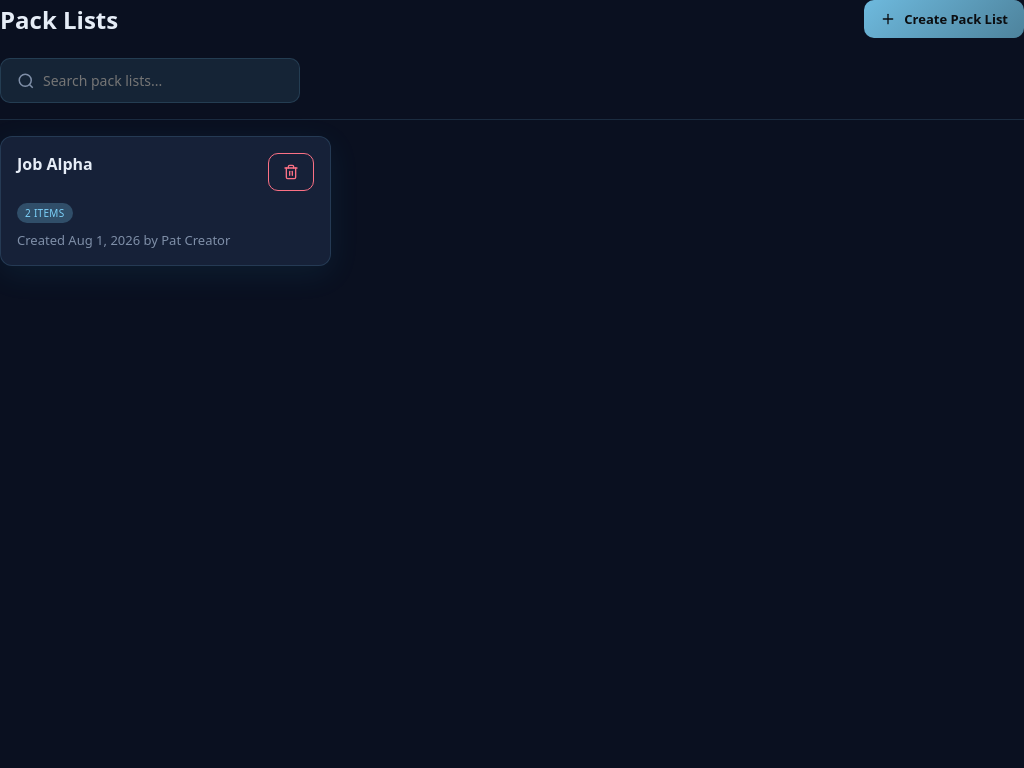
Test: package selection › empty packages can be selected and deselected
Click the button "Create Pack List": click(944, 19) [864,0,1023,38]
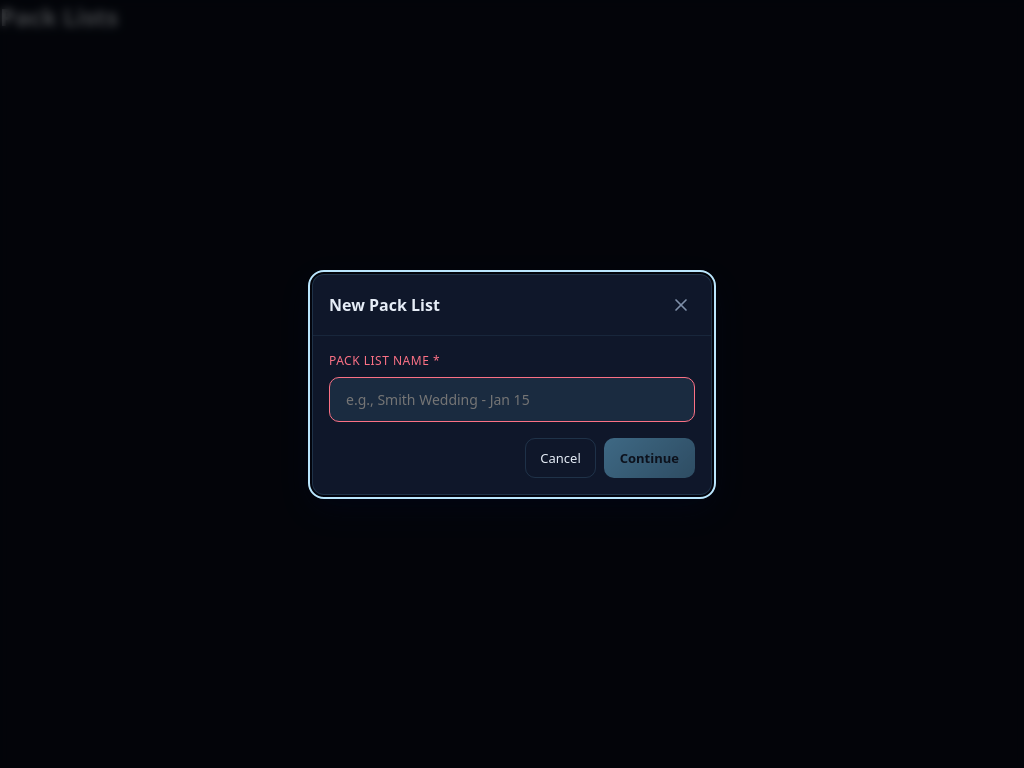
In the field with placeholder "e.g., Smith Wedding - Jan 15": (512, 399) [329,376,695,422], type "Empty Pkg Job"
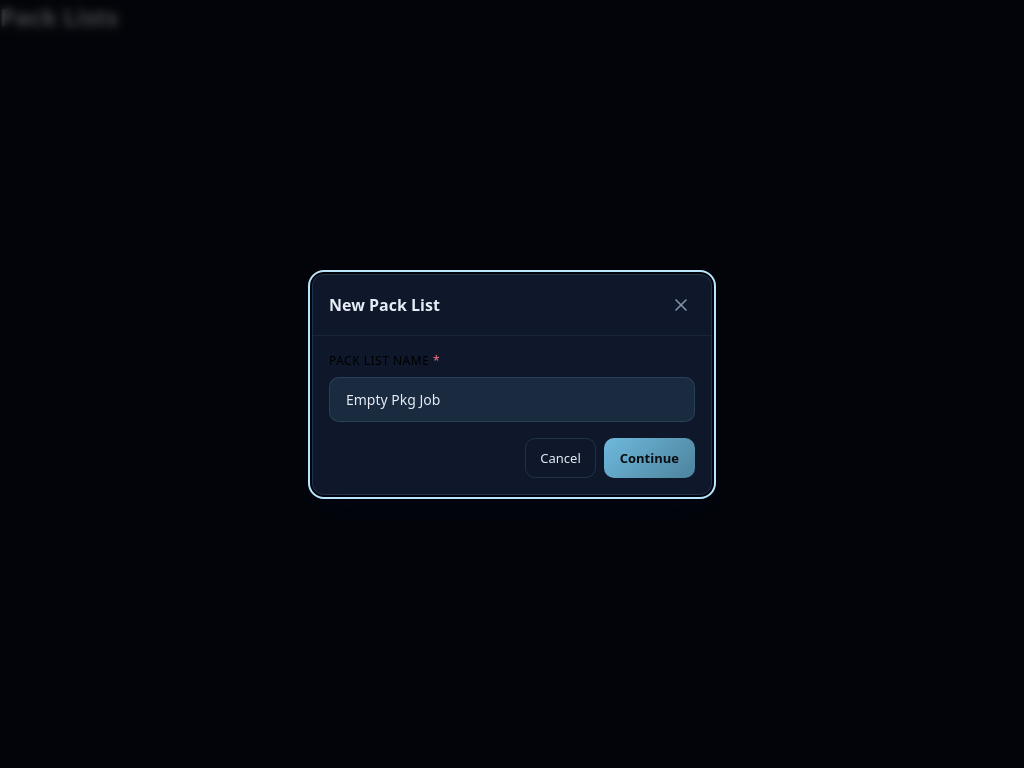
Click the button "Continue": click(649, 458) [604,438,695,478]
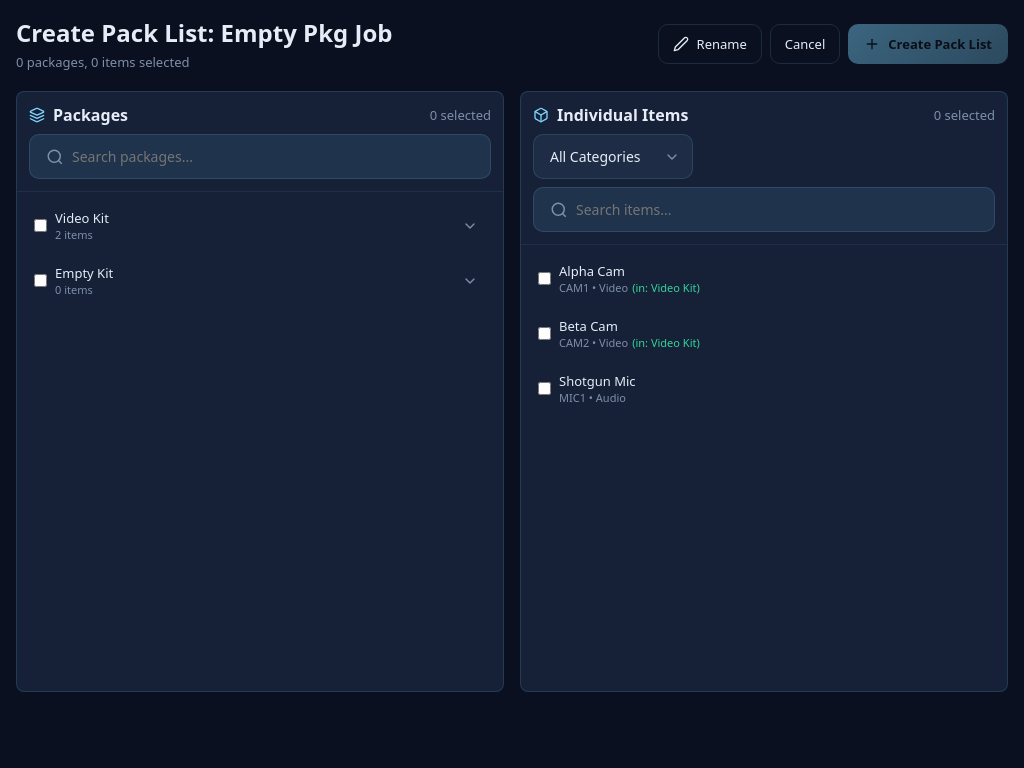
Click the text "Alpha Cam": click(592, 271) [559,262,625,280]
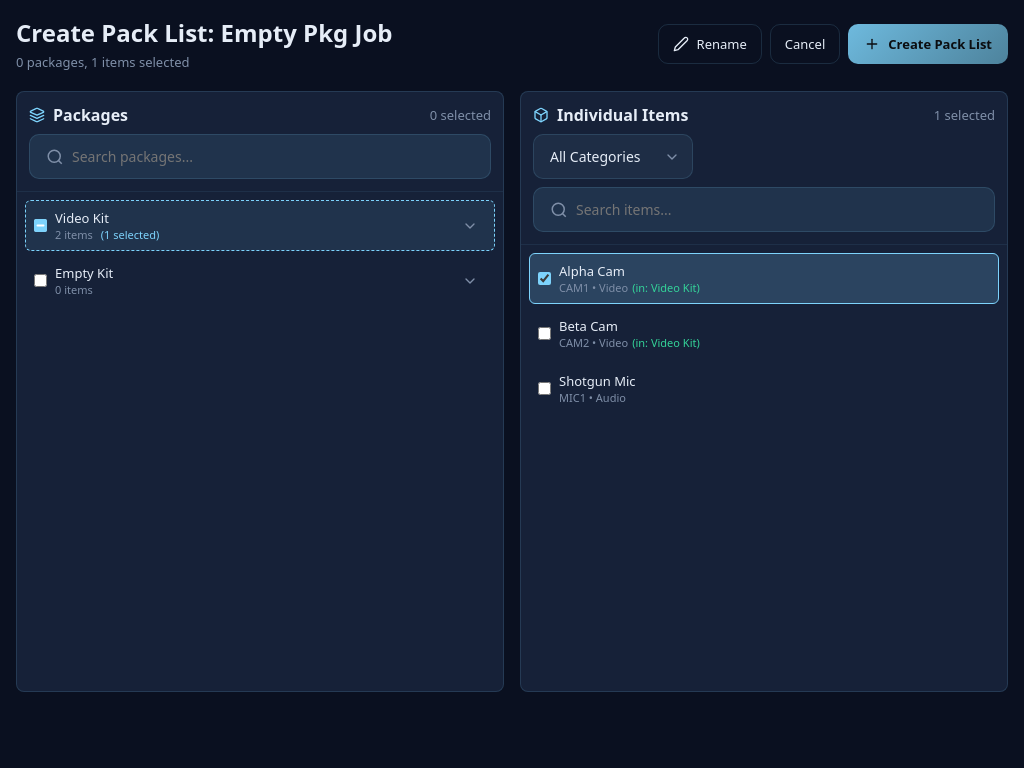
Check: the text "0 selected" is shown, box [430,106,491,124]
Click the text "Empty Kit": click(84, 273) [55,264,113,282]
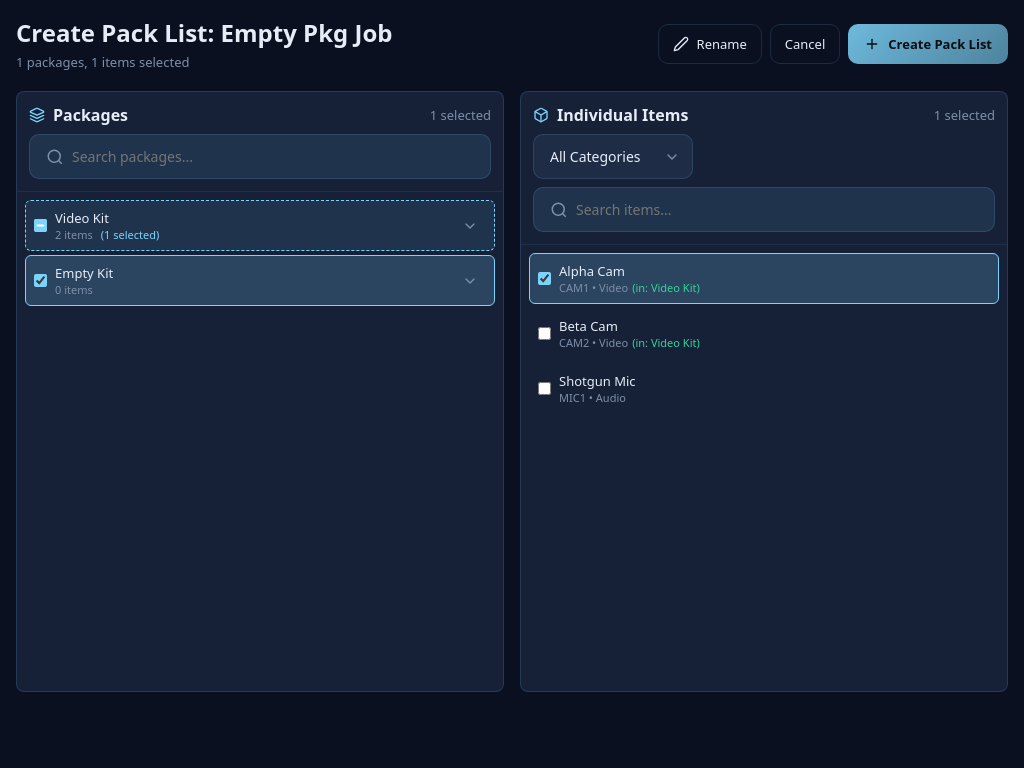
Check: the 1st text "1 selected" is shown, box [430,106,491,124]
Click the text "Empty Kit": click(84, 273) [55,264,113,282]
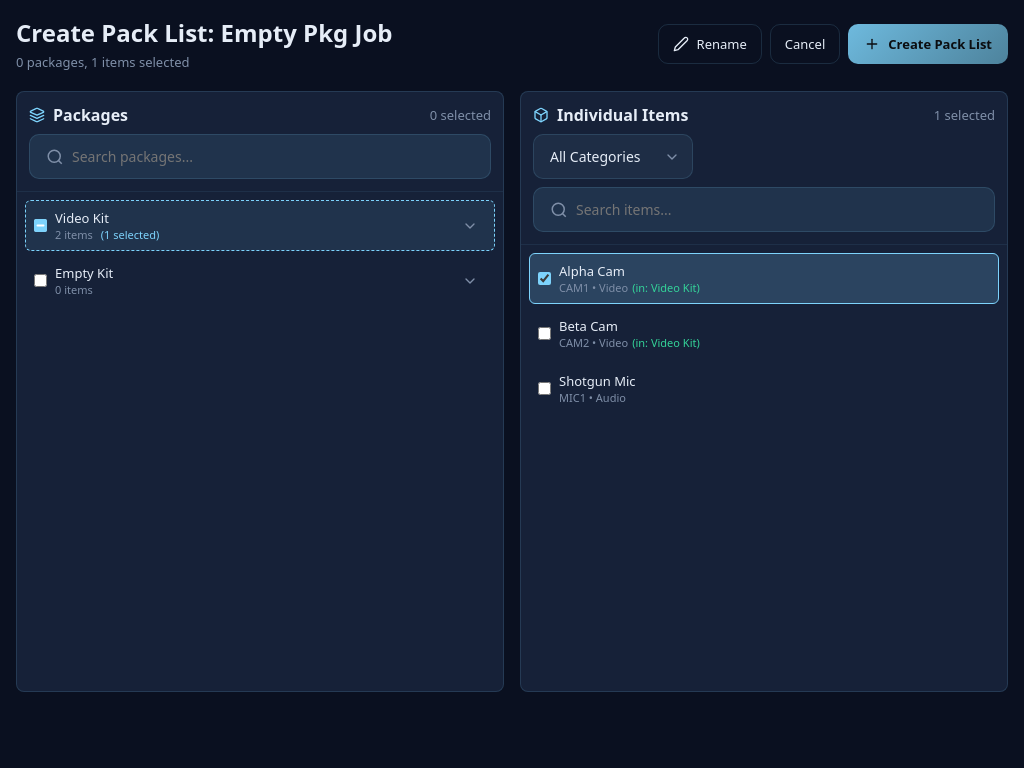
Check: the text "0 selected" is shown, box [430,106,491,124]
